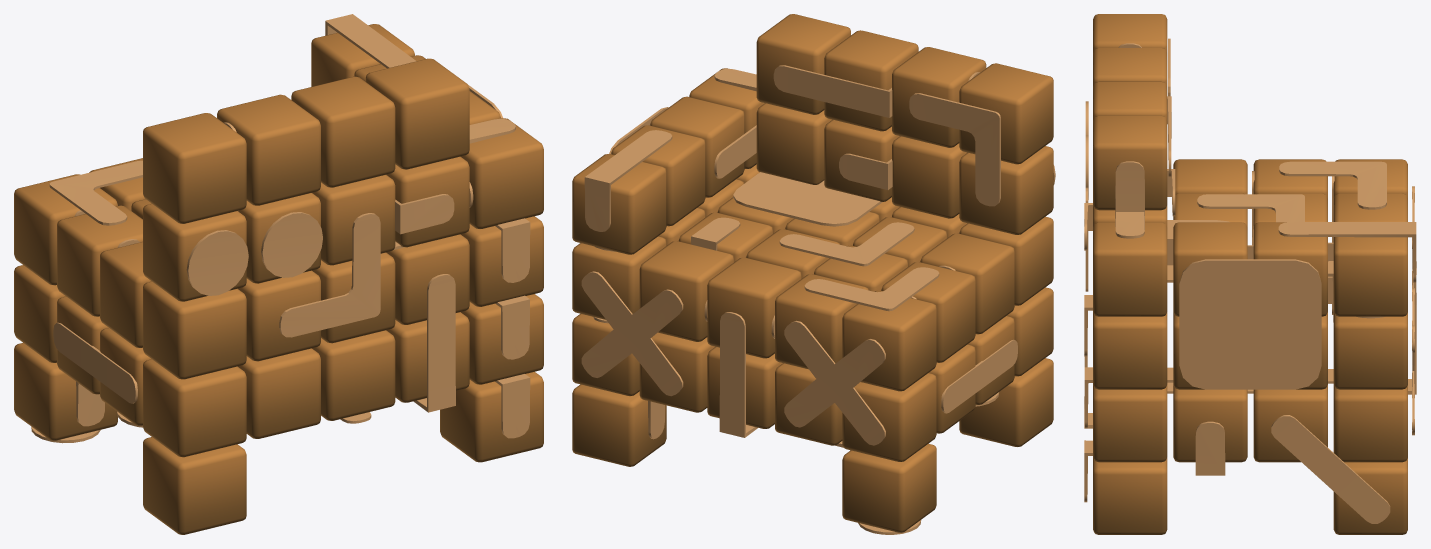
The model's file is level_141.fbx.
3 views of the same model, side by side, from view 1: azimuth 30°, elevation 25°; view 2: azimuth 150°, elevation 25°; view 3: azimuth 270°, elevation 25° (orthographic). The views are drawn at different scales.
Visible parts, largest first — view 1: Cube_L1_94.056, Cube_L1_94.060, Cube_L1_94, Cube_L1_94.001, Cube_L1_94.055, Cube_L1_94.057, Cube_L1_94.054, Cube_L1_94.024, Cube_L1_94.076, Cube_L1_94.074, Cube_L1_94.093, Link_46 (+32 smaller); view 2: Cube_L1_94.094, Cube_L1_94.056, Link_22, Link_22.001, Cube_L1_94.004, Cube_L1_94.023, Cube_L1_94.092, Cube_L1_94.027, Cube_L1_94.010, Cube_L1_94.014, Cube_L1_94.055, Cube_L1_94.062 (+43 smaller); view 3: Link_28, Cube_L1_94.024, Cube_L1_94.023, Cube_L1_94.055, Cube_L1_94.020, Cube_L1_94.084, Cube_L1_94.083, Cube_L1_94.019, Cube_L1_94.093, Cube_L1_94.082, Link_55, Cube_L1_94.081 (+23 smaller).
Boxes of the visible parts, bbox=[...] form: Cube_L1_94.056: bbox=[143, 113, 246, 223]; Cube_L1_94.060: bbox=[143, 359, 246, 457]; Cube_L1_94: bbox=[143, 437, 246, 534]; Cube_L1_94.001: bbox=[143, 281, 246, 379]; Cube_L1_94.055: bbox=[365, 58, 469, 169]; Cube_L1_94.057: bbox=[291, 76, 395, 187]; Cube_L1_94.054: bbox=[217, 94, 320, 205]; Cube_L1_94.024: bbox=[460, 118, 543, 228]; Cube_L1_94.076: bbox=[312, 330, 395, 420]; Cube_L1_94.074: bbox=[238, 348, 320, 438]; Cube_L1_94.093: bbox=[440, 371, 543, 462]; Link_46: bbox=[279, 213, 380, 337]; Cube_L1_94.094: bbox=[842, 443, 936, 532]; Cube_L1_94.056: bbox=[959, 63, 1053, 164]; Link_22: bbox=[581, 271, 683, 396]; Link_22.001: bbox=[784, 320, 885, 445]; Cube_L1_94.004: bbox=[842, 290, 936, 391]; Cube_L1_94.023: bbox=[572, 154, 666, 254]; Cube_L1_94.092: bbox=[572, 384, 666, 466]; Cube_L1_94.027: bbox=[959, 146, 1053, 234]; Cube_L1_94.010: bbox=[707, 257, 801, 358]; Cube_L1_94.014: bbox=[639, 241, 733, 341]; Cube_L1_94.055: bbox=[756, 14, 850, 114]; Cube_L1_94.062: bbox=[842, 373, 936, 461]; Link_28: bbox=[1179, 259, 1321, 389]; Cube_L1_94.024: bbox=[1093, 222, 1167, 316]; Cube_L1_94.023: bbox=[1333, 237, 1407, 316]; Cube_L1_94.055: bbox=[1093, 115, 1167, 210]; Cube_L1_94.020: bbox=[1093, 312, 1167, 389]; Cube_L1_94.084: bbox=[1093, 385, 1167, 462]; Cube_L1_94.083: bbox=[1333, 384, 1407, 462]; Cube_L1_94.019: bbox=[1333, 312, 1407, 389]; Cube_L1_94.093: bbox=[1093, 457, 1167, 534]; Cube_L1_94.082: bbox=[1173, 385, 1247, 462]; Link_55: bbox=[1271, 415, 1390, 523]; Cube_L1_94.081: bbox=[1253, 384, 1327, 462].
Size of the model in its own units: 10.69 by 10.62 by 8.76.
